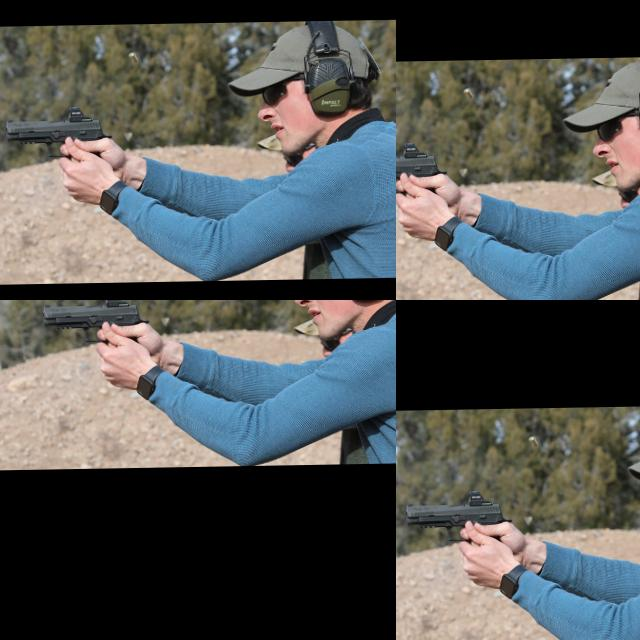handgun: (246, 86, 348, 198), (12, 340, 68, 470), (402, 488, 512, 542), (396, 107, 429, 135)
